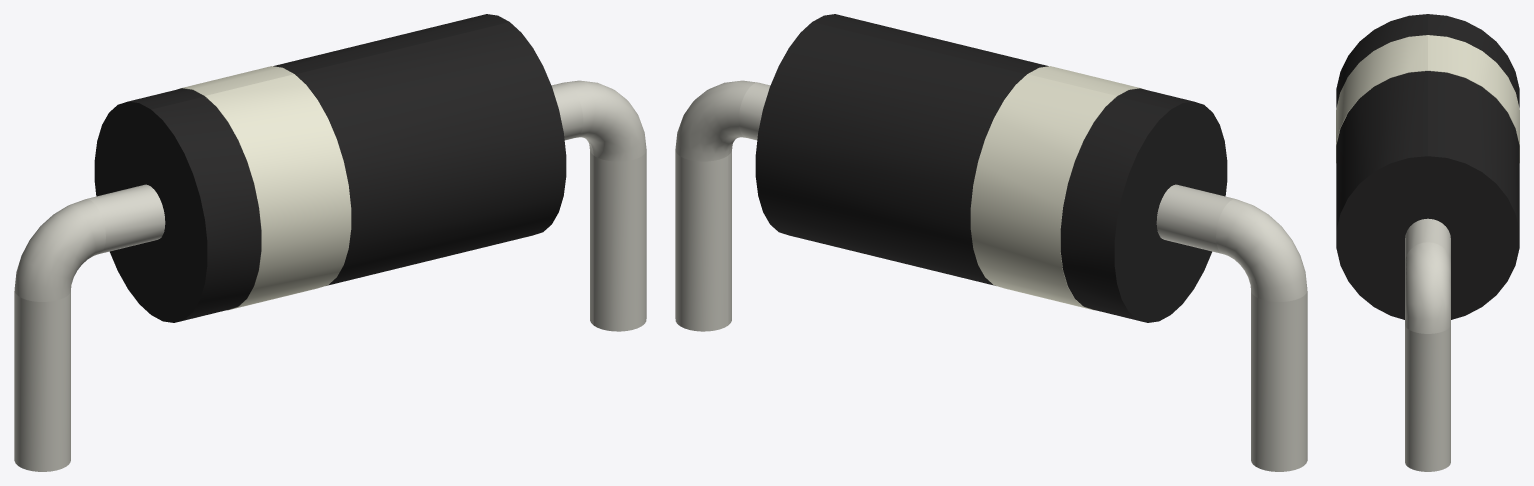
The model's file is kc-d_do-201ad_p15.24mm_horizontal.glb.
The picture shows the model from 3 angles, left to right: view 1: azimuth 30°, elevation 25°; view 2: azimuth 150°, elevation 25°; view 3: azimuth 270°, elevation 25°; orthographic projection. The views are drawn at different scales.
Parts seen in each view (by area): view 1: 0_0_0_0, 0.6666666666666666_0.6666666666666666_0.5833333333333334_0.8, 0.75_0.75_0.6666666666666666_0; view 2: 0_0_0_0, 0.6666666666666666_0.6666666666666666_0.5833333333333334_0.8, 0.75_0.75_0.6666666666666666_0; view 3: 0_0_0_0, 0.6666666666666666_0.6666666666666666_0.5833333333333334_0.8, 0.75_0.75_0.6666666666666666_0.
Part boxes in pixels (x1,y1,x2,y2): 0_0_0_0: (94,14,566,322); 0.6666666666666666_0.6666666666666666_0.5833333333333334_0.8: (14,80,646,471); 0.75_0.75_0.6666666666666666_0: (178,66,351,310); 0_0_0_0: (755,14,1227,322); 0.6666666666666666_0.6666666666666666_0.5833333333333334_0.8: (675,80,1307,471); 0.75_0.75_0.6666666666666666_0: (970,66,1143,310); 0_0_0_0: (1336,14,1519,319); 0.6666666666666666_0.6666666666666666_0.5833333333333334_0.8: (1405,218,1450,471); 0.75_0.75_0.6666666666666666_0: (1336,35,1519,162).
Size of the model in its own units: 1.65 by 0.821 by 0.5191.
